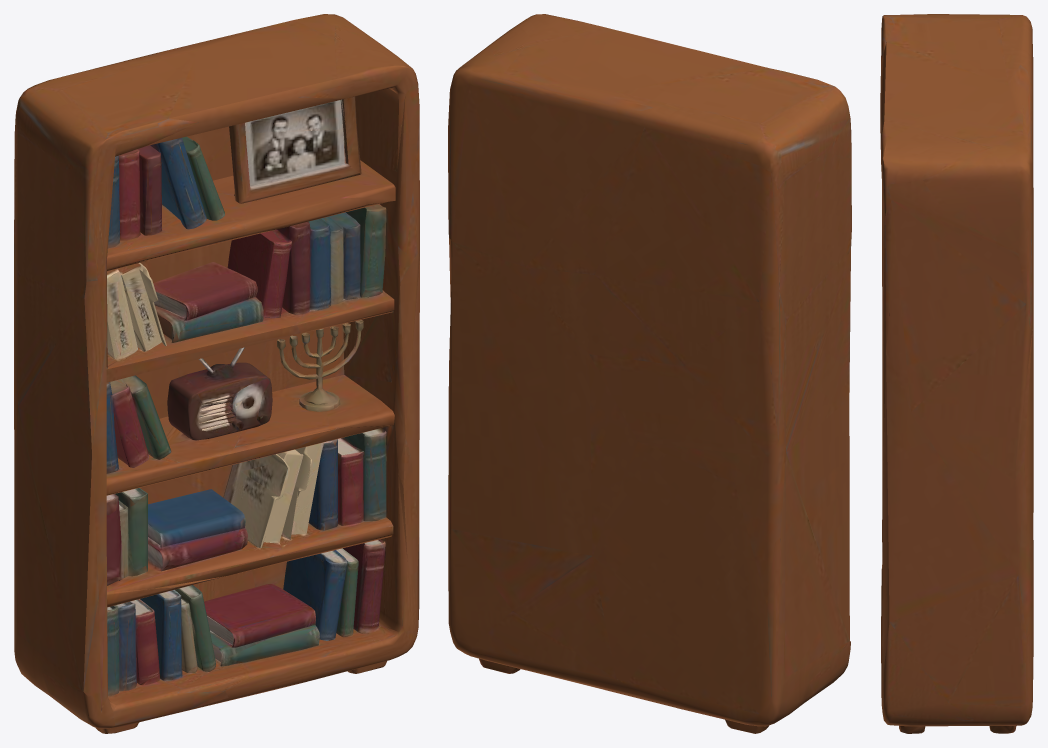
File: bookshelf.glb
3 renders of one model, left to right at view 1: azimuth 30°, elevation 25°; view 2: azimuth 150°, elevation 25°; view 3: azimuth 270°, elevation 25°, orthographic. The views are drawn at different scales.
Size of the model in its own units: 1.1 by 1.9 by 0.4504.
Materials: 1 (1 with a texture image).
